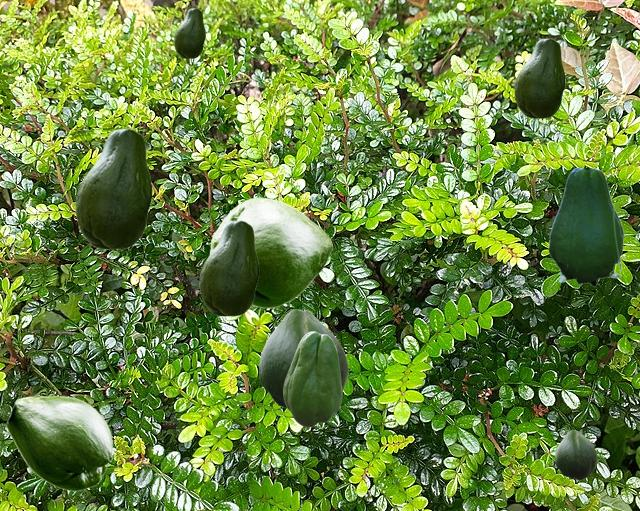sayote: (209, 197, 332, 307), (6, 395, 112, 490), (548, 168, 625, 288), (75, 128, 151, 248), (259, 309, 347, 408), (199, 220, 258, 315), (283, 331, 341, 426), (514, 38, 564, 117), (555, 430, 596, 479), (174, 8, 204, 57)
